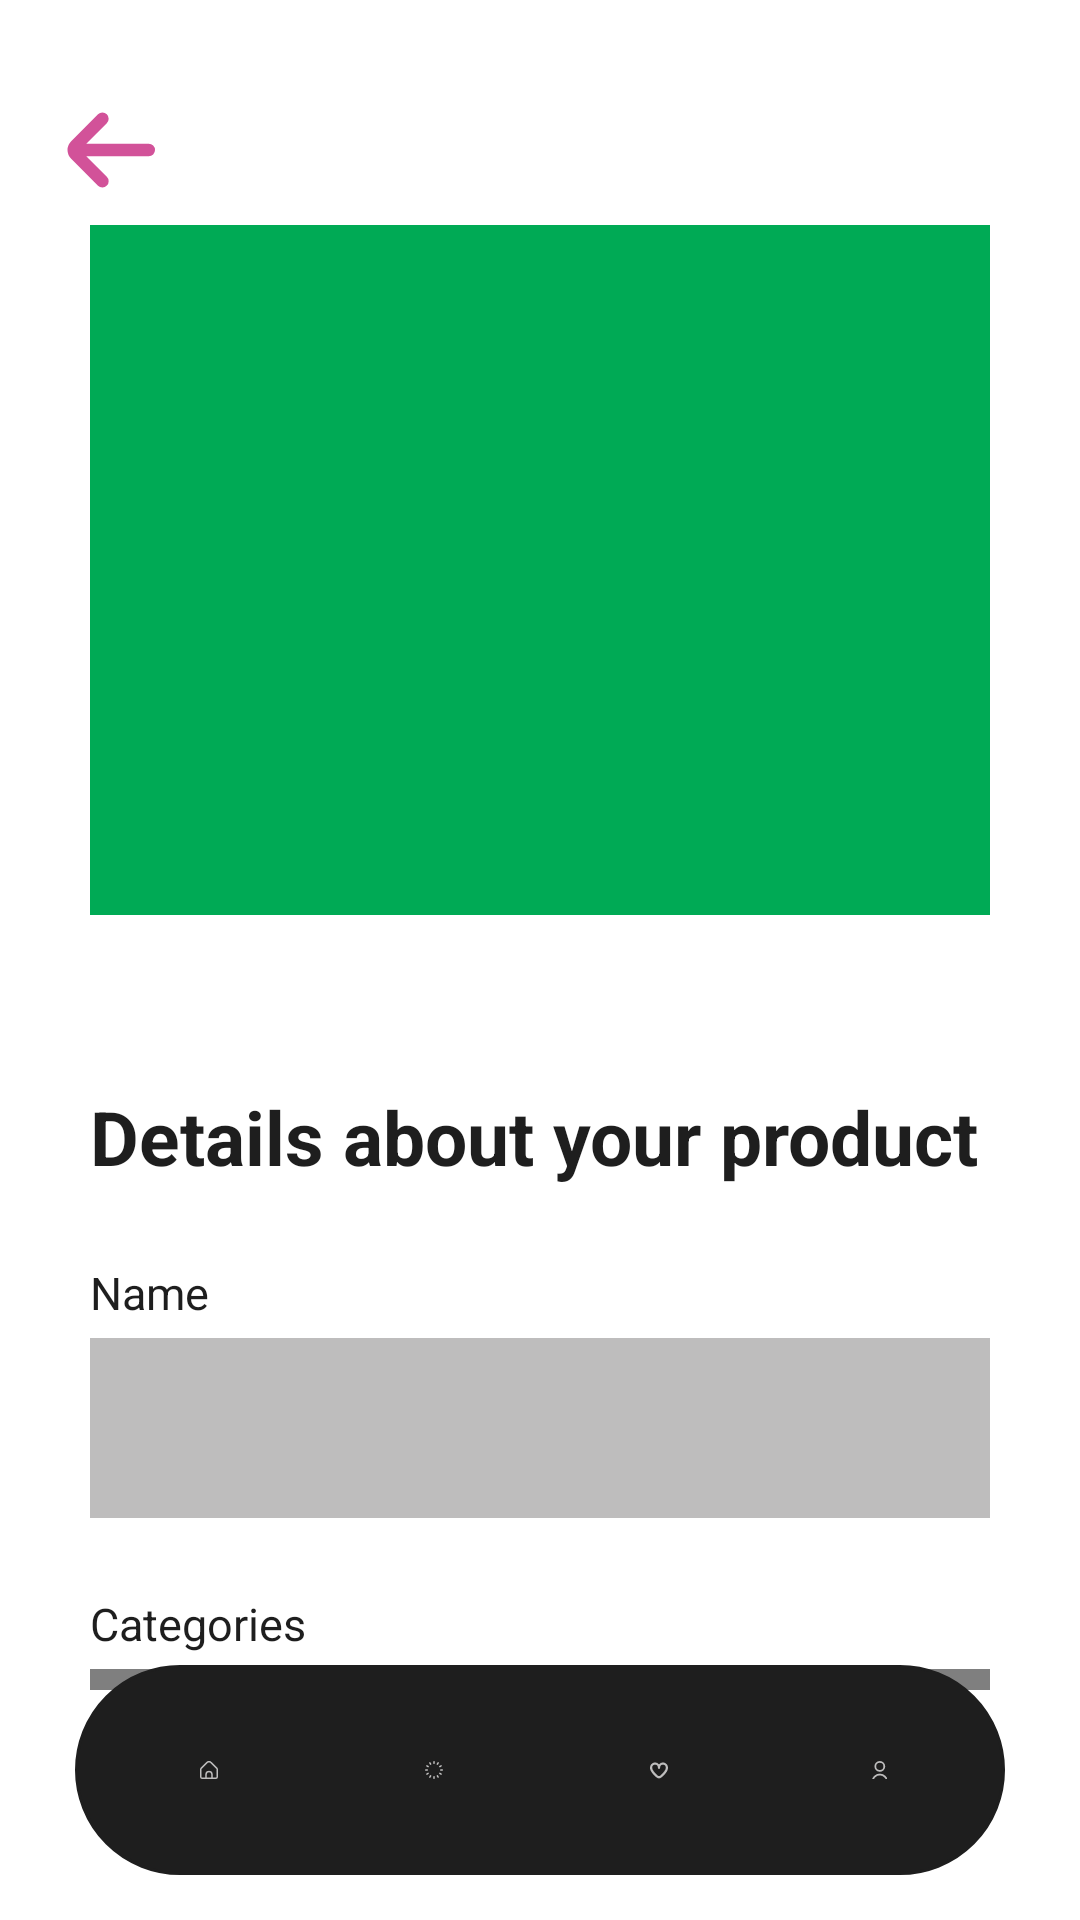

Locate icon controls on the screen. Image size 1080x1920, boxes as (x1, y1, x2, y2).
Back: (67, 112, 155, 188)
